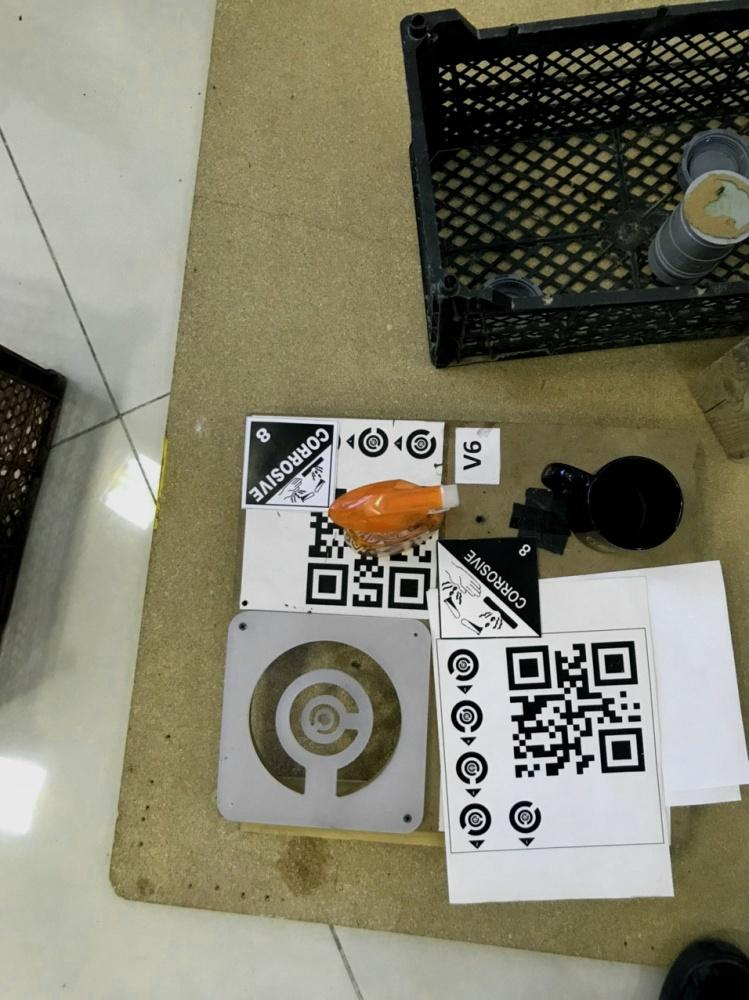corrosive: (432, 537, 540, 635), (247, 420, 336, 506)
